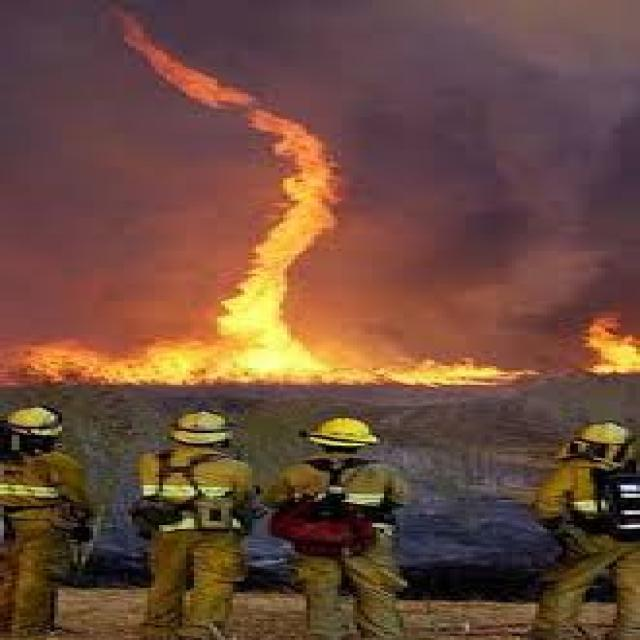Fire: (214, 120, 328, 384), (118, 10, 254, 110), (342, 348, 536, 391), (585, 317, 640, 373)
Smoke: (345, 5, 620, 298)
